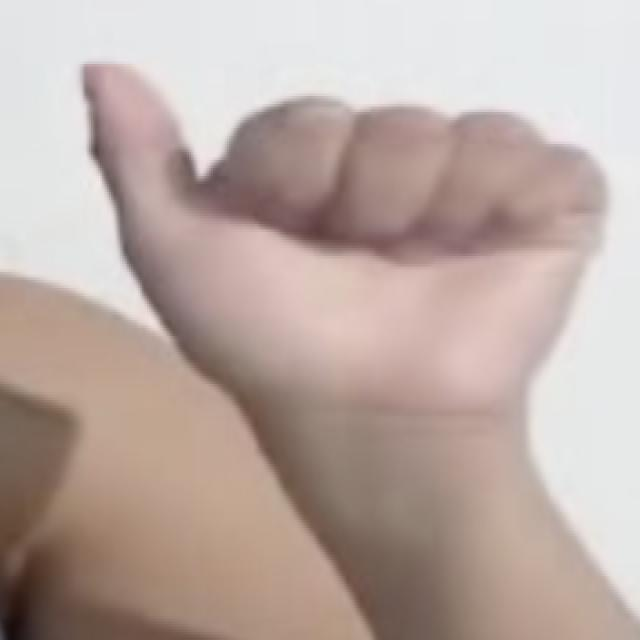A: (52, 38, 612, 420)
